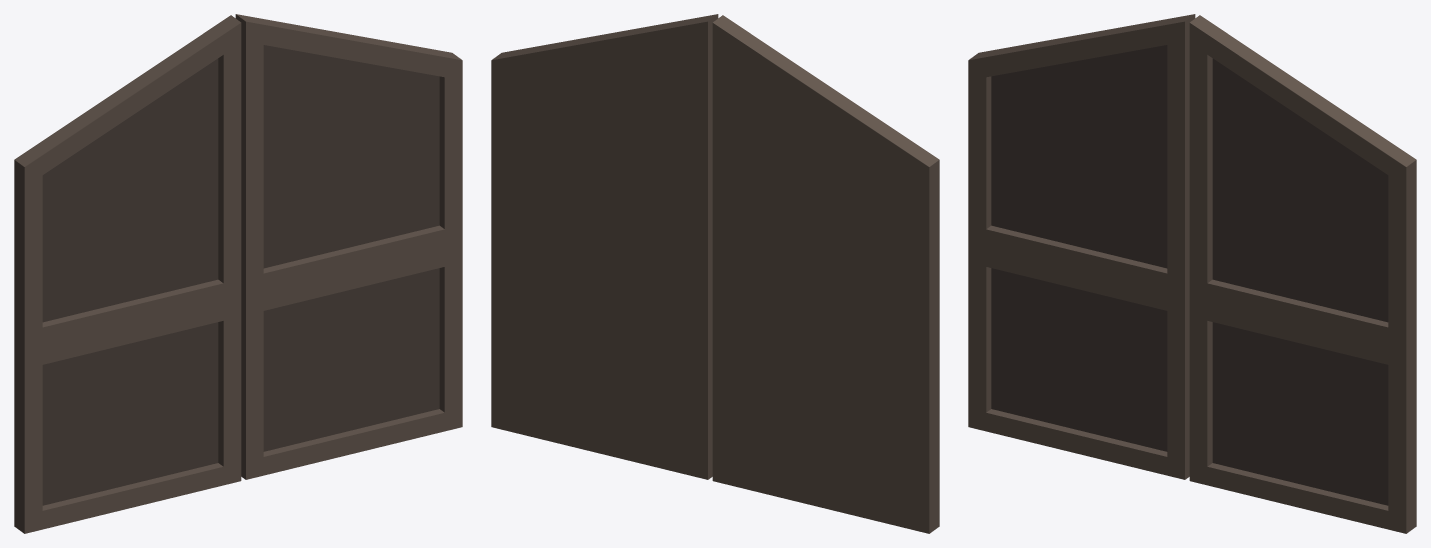
The model's file is GreatWallDoors.fbx.
3 views of the same model, side by side, from view 1: azimuth 30°, elevation 25°; view 2: azimuth 150°, elevation 25°; view 3: azimuth 330°, elevation 25° (orthographic).
Parts seen in each view (by area): view 1: GreatWallDoor.R, GreatWallDoor.L; view 2: GreatWallDoor.R, GreatWallDoor.L; view 3: GreatWallDoor.L, GreatWallDoor.R.
Part boxes in pixels (left/top/right/bottom): GreatWallDoor.R: left=14, top=15, right=241, bottom=533; GreatWallDoor.L: left=235, top=14, right=462, bottom=479; GreatWallDoor.R: left=712, top=15, right=939, bottom=533; GreatWallDoor.L: left=491, top=14, right=718, bottom=479; GreatWallDoor.L: left=1189, top=15, right=1416, bottom=533; GreatWallDoor.R: left=968, top=14, right=1195, bottom=479.
Size of the model in its own units: 490 by 490 by 20.
